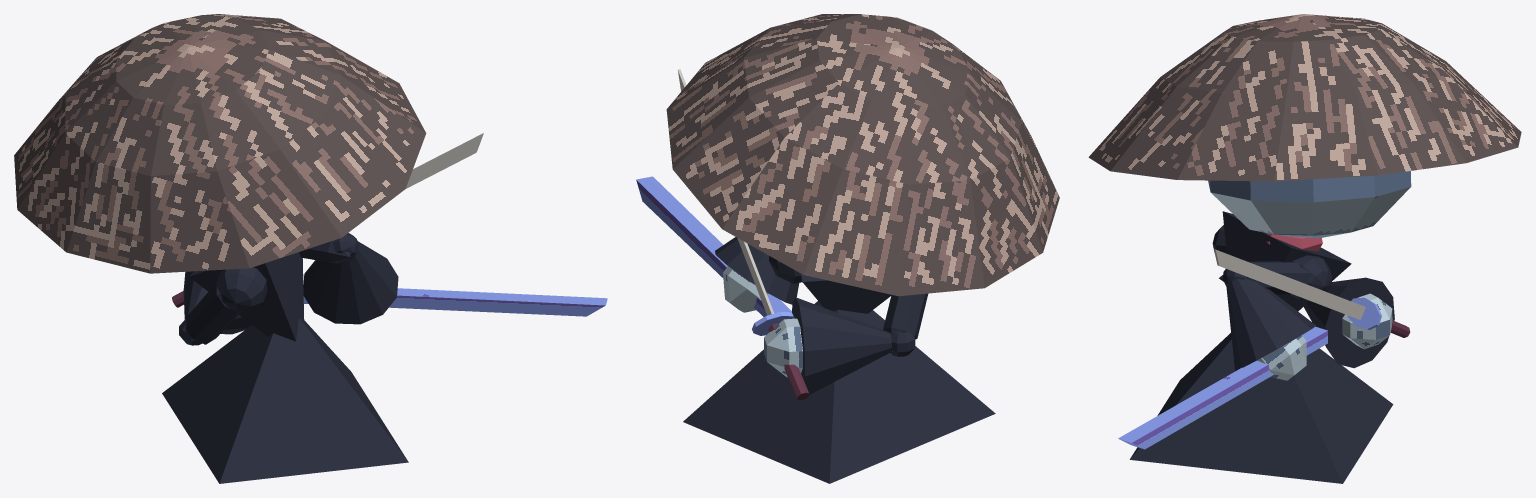
File: SwordBot_NoAnim.gltf
3 views of the same model, side by side, from view 1: azimuth 30°, elevation 25°; view 2: azimuth 150°, elevation 25°; view 3: azimuth 270°, elevation 25° (orthographic). The views are drawn at different scales.
Visible parts, largest first — view 1: BambooHat, Legs, LowerArm (×2), Sheath, Torso, UpperArm (×2), Sholder, Blade; view 2: BambooHat, Legs, LowerArm (×2), Sheath, Hand (×2), Torso, UpperArm, cylinder (×2), Blade, Elbow, Sholder; view 3: BambooHat, Legs, Head, LowerArm (×2), Sheath, Torso, Hand (×2), Blade, UpperArm, Sholder, cylinder, torus.
Boxes of the visible parts, box(x1,y1,x2,y2) form: BambooHat: box(14, 14, 426, 273); Legs: box(162, 317, 408, 483); LowerArm (×2): box(183, 241, 398, 334); Sheath: box(303, 284, 607, 316); Torso: box(189, 252, 304, 341); UpperArm (×2): box(185, 240, 350, 344); Sholder: box(216, 267, 267, 312); Blade: box(405, 133, 483, 188); BambooHat: box(666, 14, 1059, 296); Legs: box(683, 301, 995, 483); LowerArm (×2): box(715, 237, 891, 394); Sheath: box(636, 176, 791, 316); Hand (×2): box(723, 266, 802, 377); Torso: box(801, 274, 891, 313); UpperArm: box(883, 293, 928, 351); cylinder (×2): box(752, 312, 809, 400); Blade: box(678, 69, 774, 315); Elbow: box(890, 332, 915, 356); Sholder: box(769, 256, 802, 283); BambooHat: box(1088, 14, 1521, 181); Legs: box(1129, 333, 1393, 483); Head: box(1208, 171, 1411, 237); LowerArm (×2): box(1226, 277, 1394, 370); Sheath: box(1118, 326, 1327, 449); Torso: box(1222, 211, 1351, 311); Hand (×2): box(1257, 293, 1392, 380); Blade: box(1214, 249, 1365, 319); UpperArm: box(1219, 261, 1311, 294); Sholder: box(1290, 255, 1332, 300); cylinder: box(1347, 297, 1381, 329); torus: box(1264, 232, 1322, 251).
Size of the model in its own units: 2.83 by 2.26 by 2.3.
2 materials, 2 textured.
